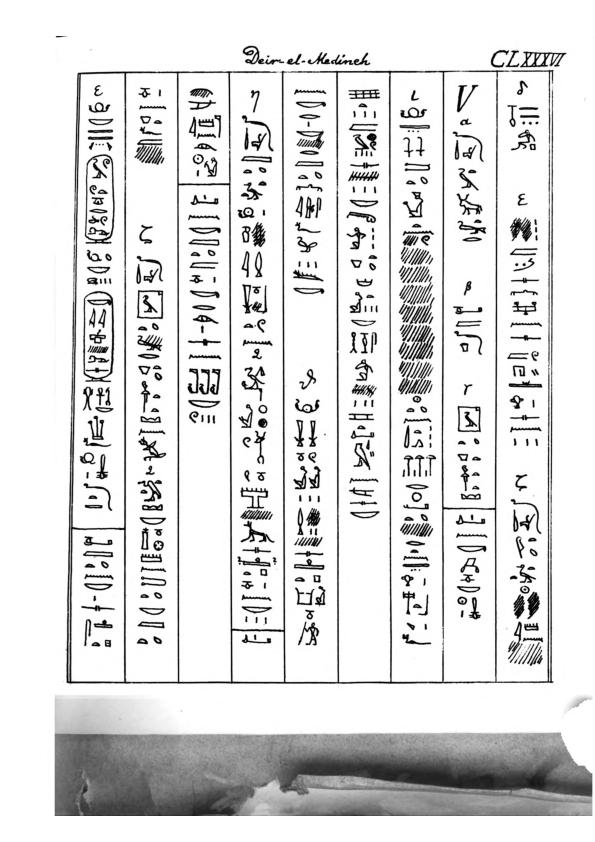circle: (80, 290, 118, 386), (81, 154, 116, 246)
